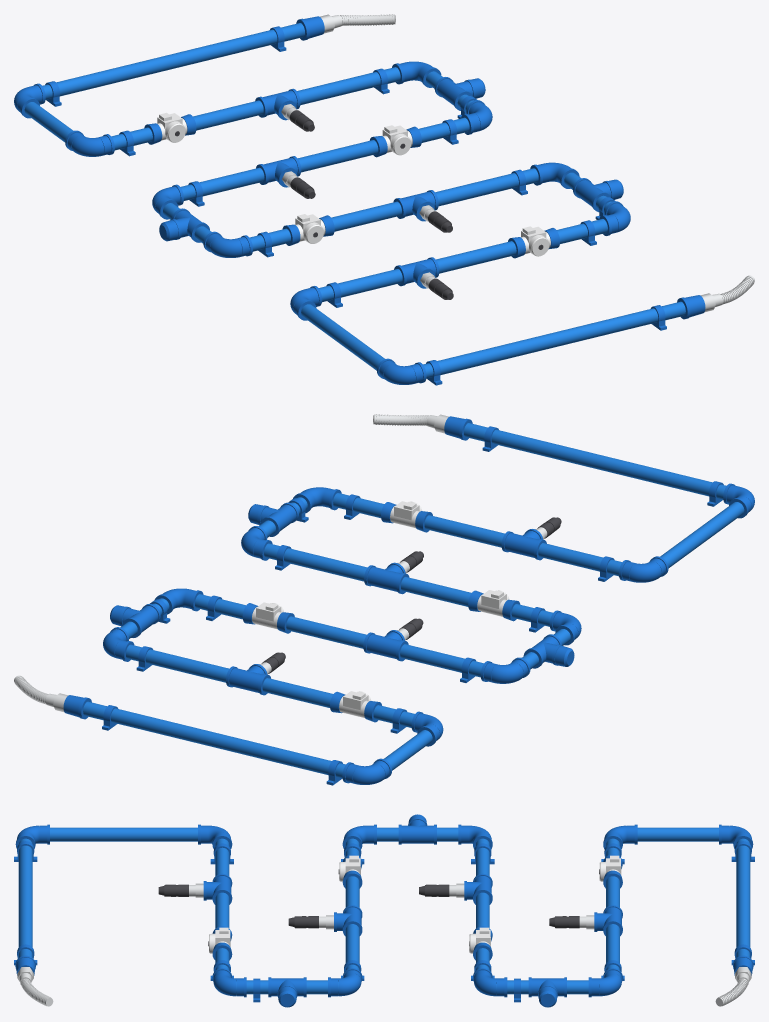
Rendered from pipeline.glb.
The picture shows the model from 3 angles, top to bottom: view 1: azimuth 30°, elevation 25°; view 2: azimuth 150°, elevation 25°; view 3: azimuth 270°, elevation 25°; orthographic projection. The views are drawn at different scales.
Visible parts, largest first — view 1: Blue_PVC_Pipes, PVC_Fittings_Elbows_Tees_Clips, White_Turbine_Flow_Sensors, Stainless_Steel_Fittings_And_Hoses, Black_Branch_Sensors_And_Hubs; view 2: Blue_PVC_Pipes, PVC_Fittings_Elbows_Tees_Clips, White_Turbine_Flow_Sensors, Stainless_Steel_Fittings_And_Hoses, Black_Branch_Sensors_And_Hubs; view 3: PVC_Fittings_Elbows_Tees_Clips, Blue_PVC_Pipes, Stainless_Steel_Fittings_And_Hoses, Black_Branch_Sensors_And_Hubs, White_Turbine_Flow_Sensors.
Part boxes in pixels (x1,y1,x2,y2): Blue_PVC_Pipes: [24, 23, 685, 378]; PVC_Fittings_Elbows_Tees_Clips: [14, 16, 705, 385]; White_Turbine_Flow_Sensors: [157, 112, 550, 256]; Stainless_Steel_Fittings_And_Hoses: [281, 14, 754, 311]; Black_Branch_Sensors_And_Hubs: [175, 110, 543, 299]; Blue_PVC_Pipes: [83, 423, 744, 778]; PVC_Fittings_Elbows_Tees_Clips: [63, 416, 754, 785]; White_Turbine_Flow_Sensors: [252, 501, 509, 717]; Stainless_Steel_Fittings_And_Hoses: [14, 414, 547, 711]; Black_Branch_Sensors_And_Hubs: [261, 517, 561, 673]; PVC_Fittings_Elbows_Tees_Clips: [14, 814, 754, 1007]; Blue_PVC_Pipes: [18, 827, 750, 994]; Stainless_Steel_Fittings_And_Hoses: [17, 883, 751, 1006]; Black_Branch_Sensors_And_Hubs: [158, 869, 599, 946]; White_Turbine_Flow_Sensors: [209, 855, 621, 953].
Size of the model in its own units: 0.808 by 0.049 by 1.39.
